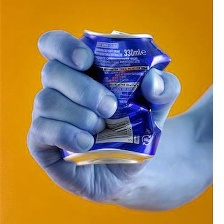can: (56, 22, 175, 171)
